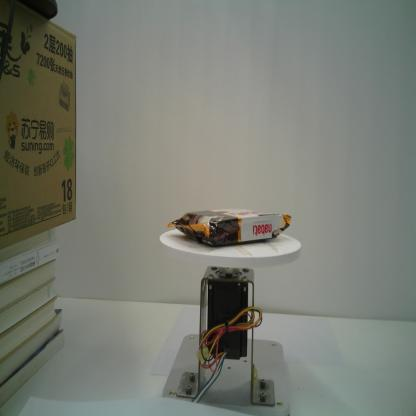Dessert: (166, 207, 293, 252)
